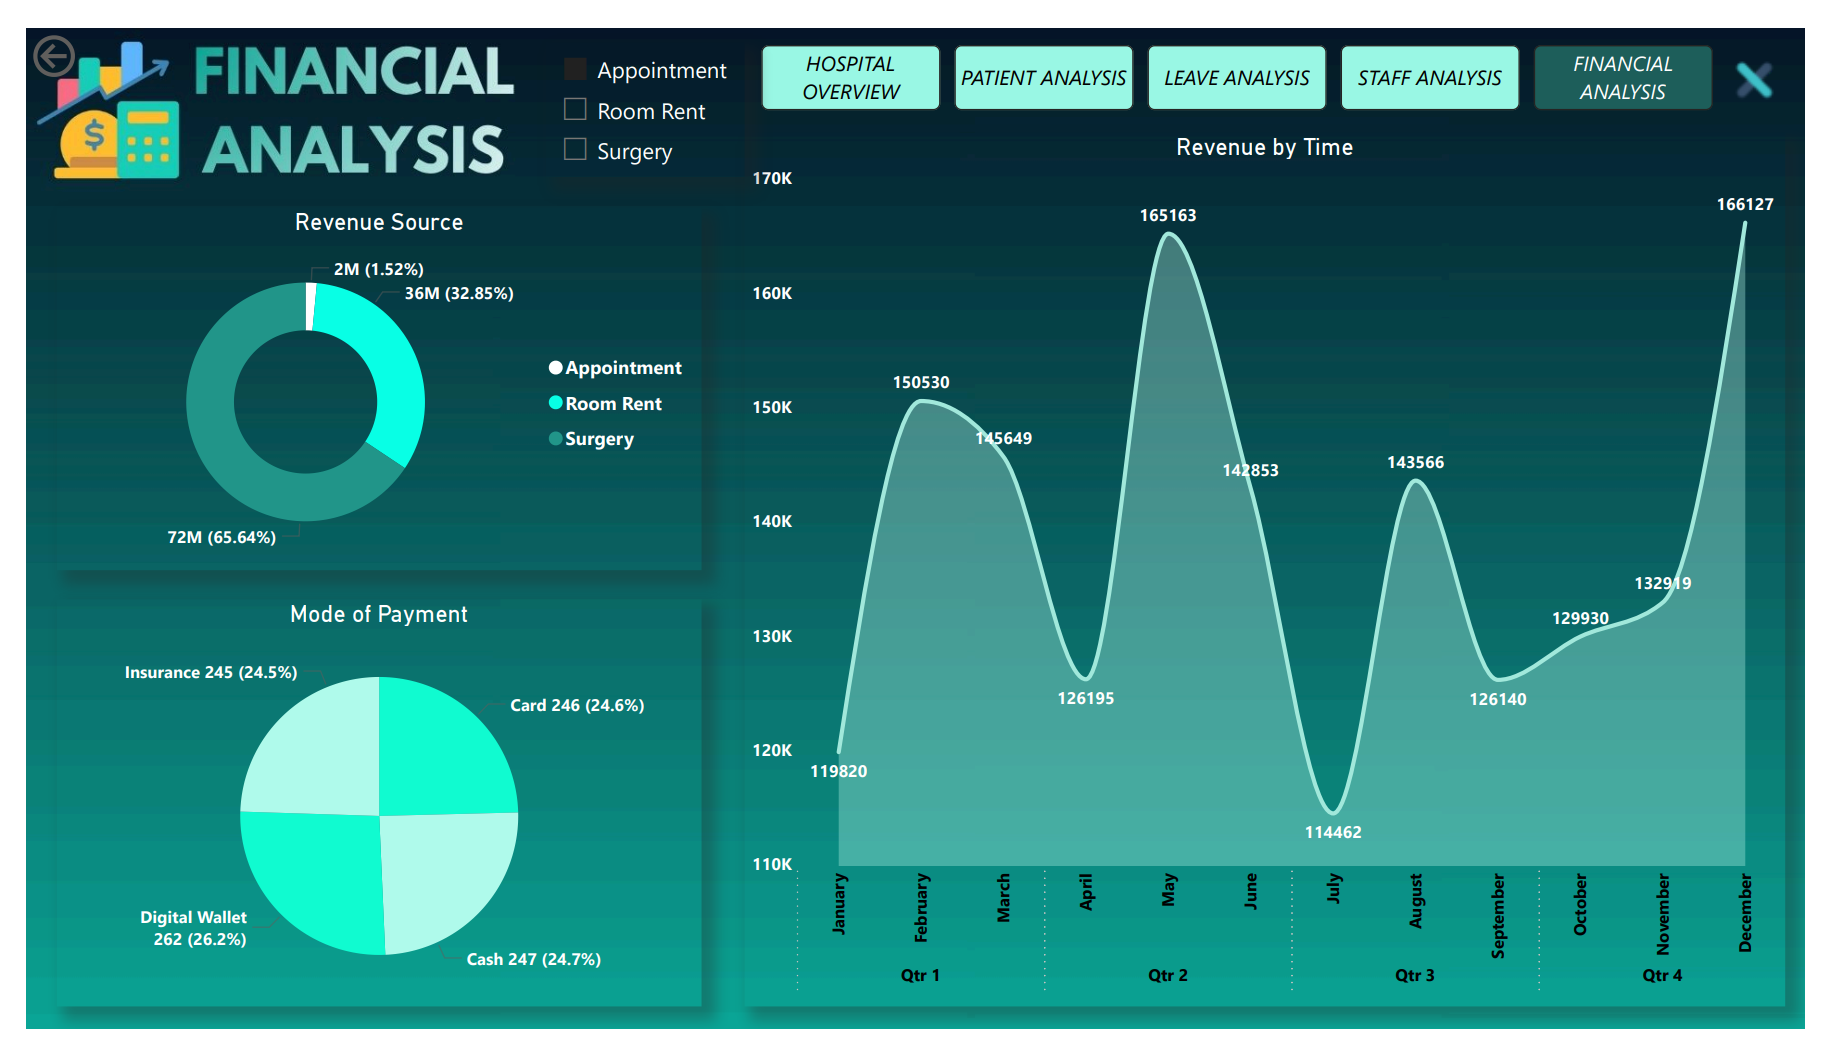

The dashboard page shown, as its layout file describes it:
{"tool":"powerbi","page":{"name":"FINANCIAL ANALYSIS","canvas":[1280,720],"ordinal":4},"visuals":[{"type":"pageNavigator","box":[528.8,12.3,684.7,46.6],"z":1000},{"type":"actionButton","box":[1222.1,9.8,44.2,52.8],"z":2000},{"type":"donutChart","title":"Revenue Source","fields":{"Y":["aa_MEASURE.Appointment","aa_MEASURE.Room Rent","aa_MEASURE.Surgery"]},"box":[22.1,128.8,463.8,261.4],"z":3000},{"type":"pieChart","title":"Mode of Payment","fields":{"Category":["Appointment.mode_of_payment"],"Y":["CountNonNull(Appointment.mode_of_payment)"]},"box":[22.1,411,463.8,293.3],"z":4000},{"type":"areaChart","title":"Revenue by Time","fields":{"Y":["aa_MEASURE.page5"],"Category":["Appointment.appointment_Date.Variation.Date Hierarchy.Quarter","Appointment.appointment_Date.Variation.Date Hierarchy.Month","Appointment.appointment_Date.Variation.Date Hierarchy.Day"]},"box":[516.6,74.8,749.7,629.5],"z":5000},{"type":"slicer","fields":{"Values":["fin.Metric"]},"box":[374.2,9.8,142.3,96.9],"z":6000},{"type":"actionButton","box":[0,0,100,40],"z":7000}]}

Visuals, with their boxes in screenshot pixels (x1, y1, x2, y2), scaled from the page's 1280x720 canvas onto the 1833x1057 screenshot:
pageNavigator: [757,18,1738,86]
actionButton: [1750,14,1813,92]
"Revenue Source" donutChart: [32,189,696,573]
"Mode of Payment" pieChart: [32,603,696,1034]
"Revenue by Time" areaChart: [740,110,1813,1034]
slicer - fin.Metric: [536,14,740,157]
actionButton: [0,0,143,59]
